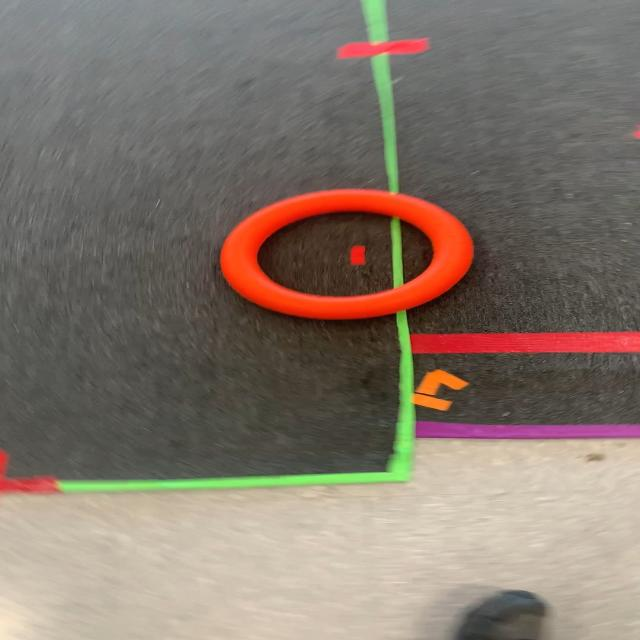notes: (219, 190, 476, 322)
